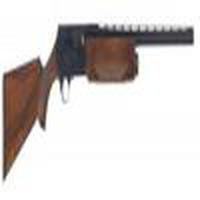gun: (1, 26, 200, 162)
